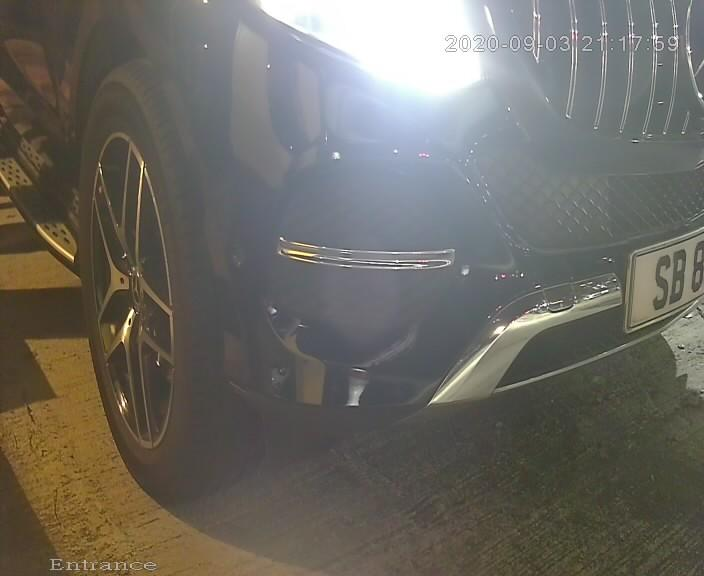Car: (41, 1, 701, 520)
License Plate: (611, 195, 704, 348)
